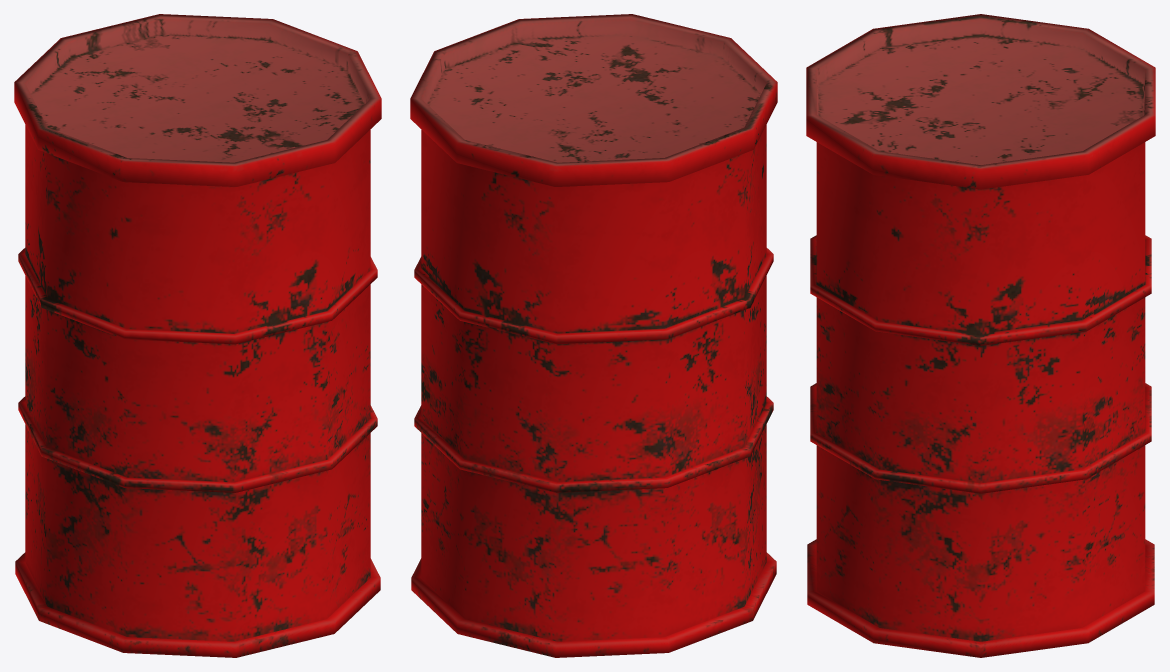
File: barrel_v4.fbx
3 renders of one model, left to right at view 1: azimuth 30°, elevation 25°; view 2: azimuth 150°, elevation 25°; view 3: azimuth 270°, elevation 25°, orthographic.
Visible parts, largest first — view 1: barrel_GEO; view 2: barrel_GEO; view 3: barrel_GEO.
Boxes of the visible parts, <box> form: barrel_GEO: <box>14,14,381,657</box>; barrel_GEO: <box>410,14,777,657</box>; barrel_GEO: <box>806,14,1155,657</box>.
Size of the model in its own units: 2.27 by 3.34 by 2.16.
